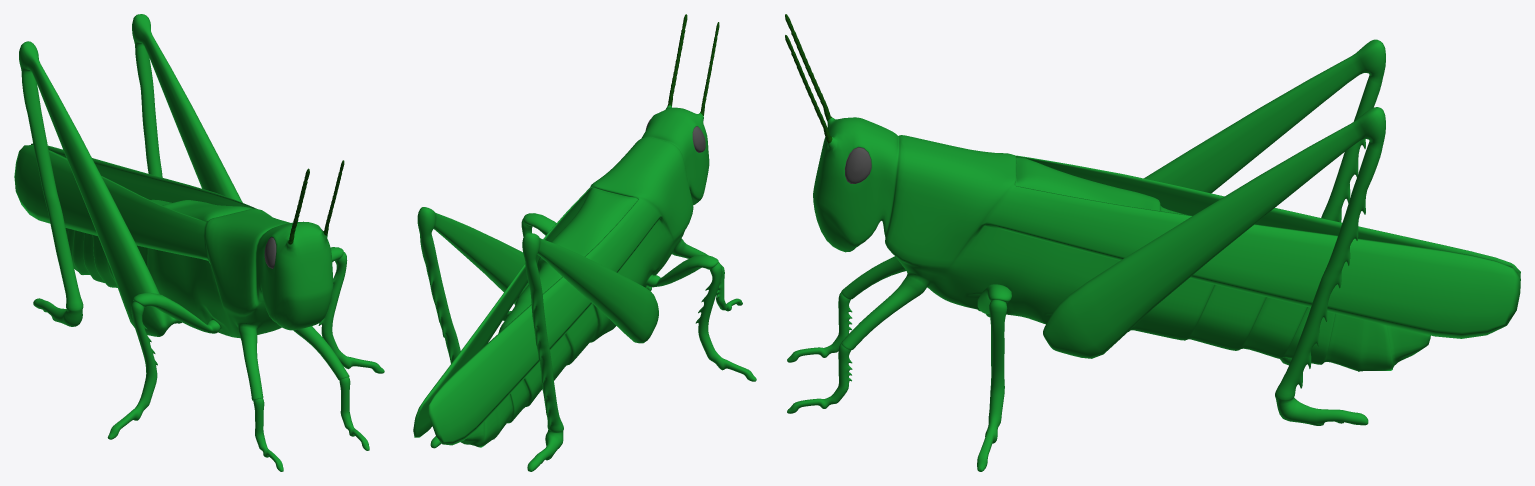
File: Grasshopper poly.fbx
The picture shows the model from 3 angles, left to right: view 1: azimuth 30°, elevation 25°; view 2: azimuth 150°, elevation 25°; view 3: azimuth 270°, elevation 25°; orthographic projection. The views are drawn at different scales.
Parts seen in each view (by area): view 1: criquet; view 2: criquet; view 3: criquet.
Part boxes in pixels (<box>): criquet: <box>14,14,384,471</box>; criquet: <box>413,14,756,471</box>; criquet: <box>785,14,1520,471</box>.
Bounding box in the file's own units: 459 × 482 × 869.
